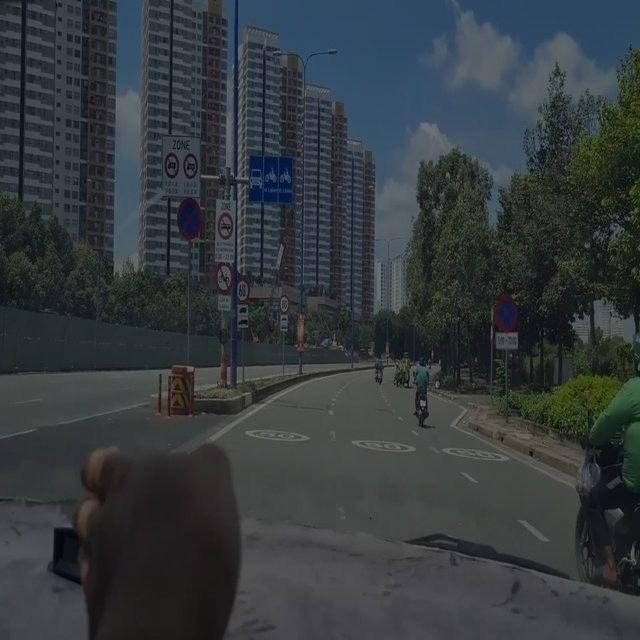Biển phụ: (493, 330, 519, 351), (213, 291, 231, 312), (237, 302, 250, 331), (278, 310, 287, 333)
Cấm các phương tiện hoạt động trong khung giờ cố định: (157, 130, 201, 197), (215, 193, 235, 260)
Cấm dừng - Cấm đỗ: (487, 288, 519, 330), (174, 196, 200, 240)
Cấm xe máy: (213, 260, 233, 291)
Giới hạn tốc độ: 60Km/h: (236, 273, 252, 303)
Giới hạn tốc độ: 80Km/h: (280, 293, 289, 309)
Làn đường cho từng xe: (248, 151, 294, 205)
